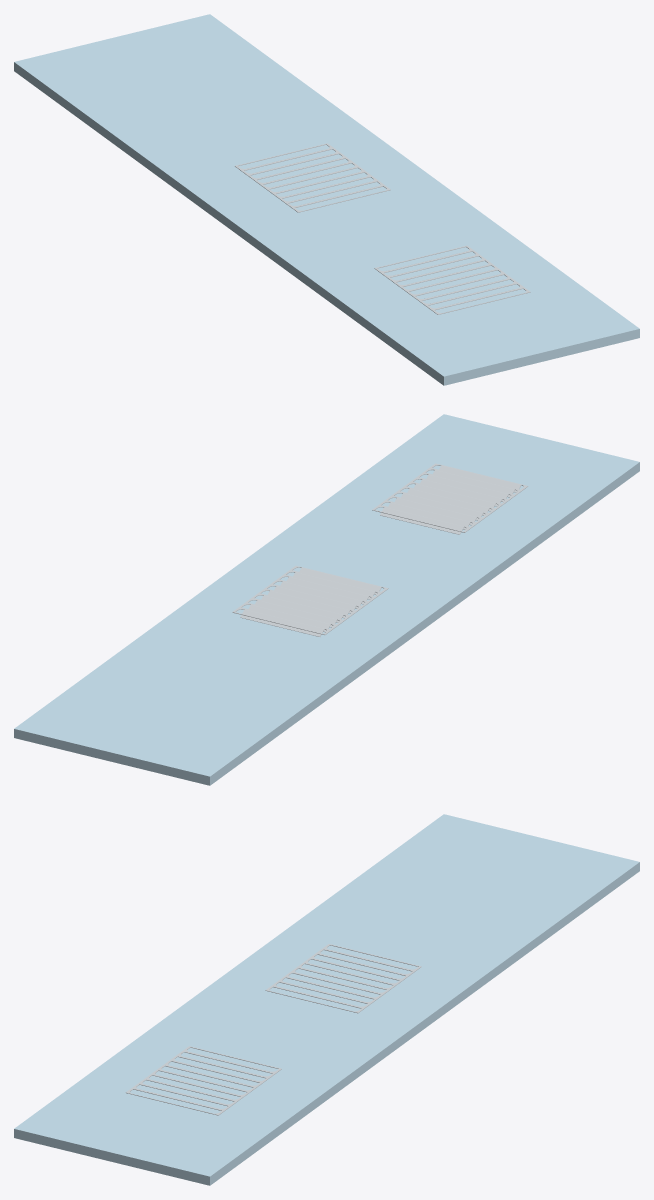
The model's file is PuertaIzquierda.gltf.
3 views of the same model, one above another, from view 1: azimuth 30°, elevation 25°; view 2: azimuth 150°, elevation 25°; view 3: azimuth 330°, elevation 25° (orthographic).
Visible parts, largest first — view 1: Part 1; view 2: Part 1; view 3: Part 1.
Part boxes in pixels (x1,y1,x2,y2): Part 1: (14,14,639,385); Part 1: (14,414,639,785); Part 1: (14,814,639,1185).
Bounding box in the file's own units: 0.4457 × 0.051 × 1.69.
